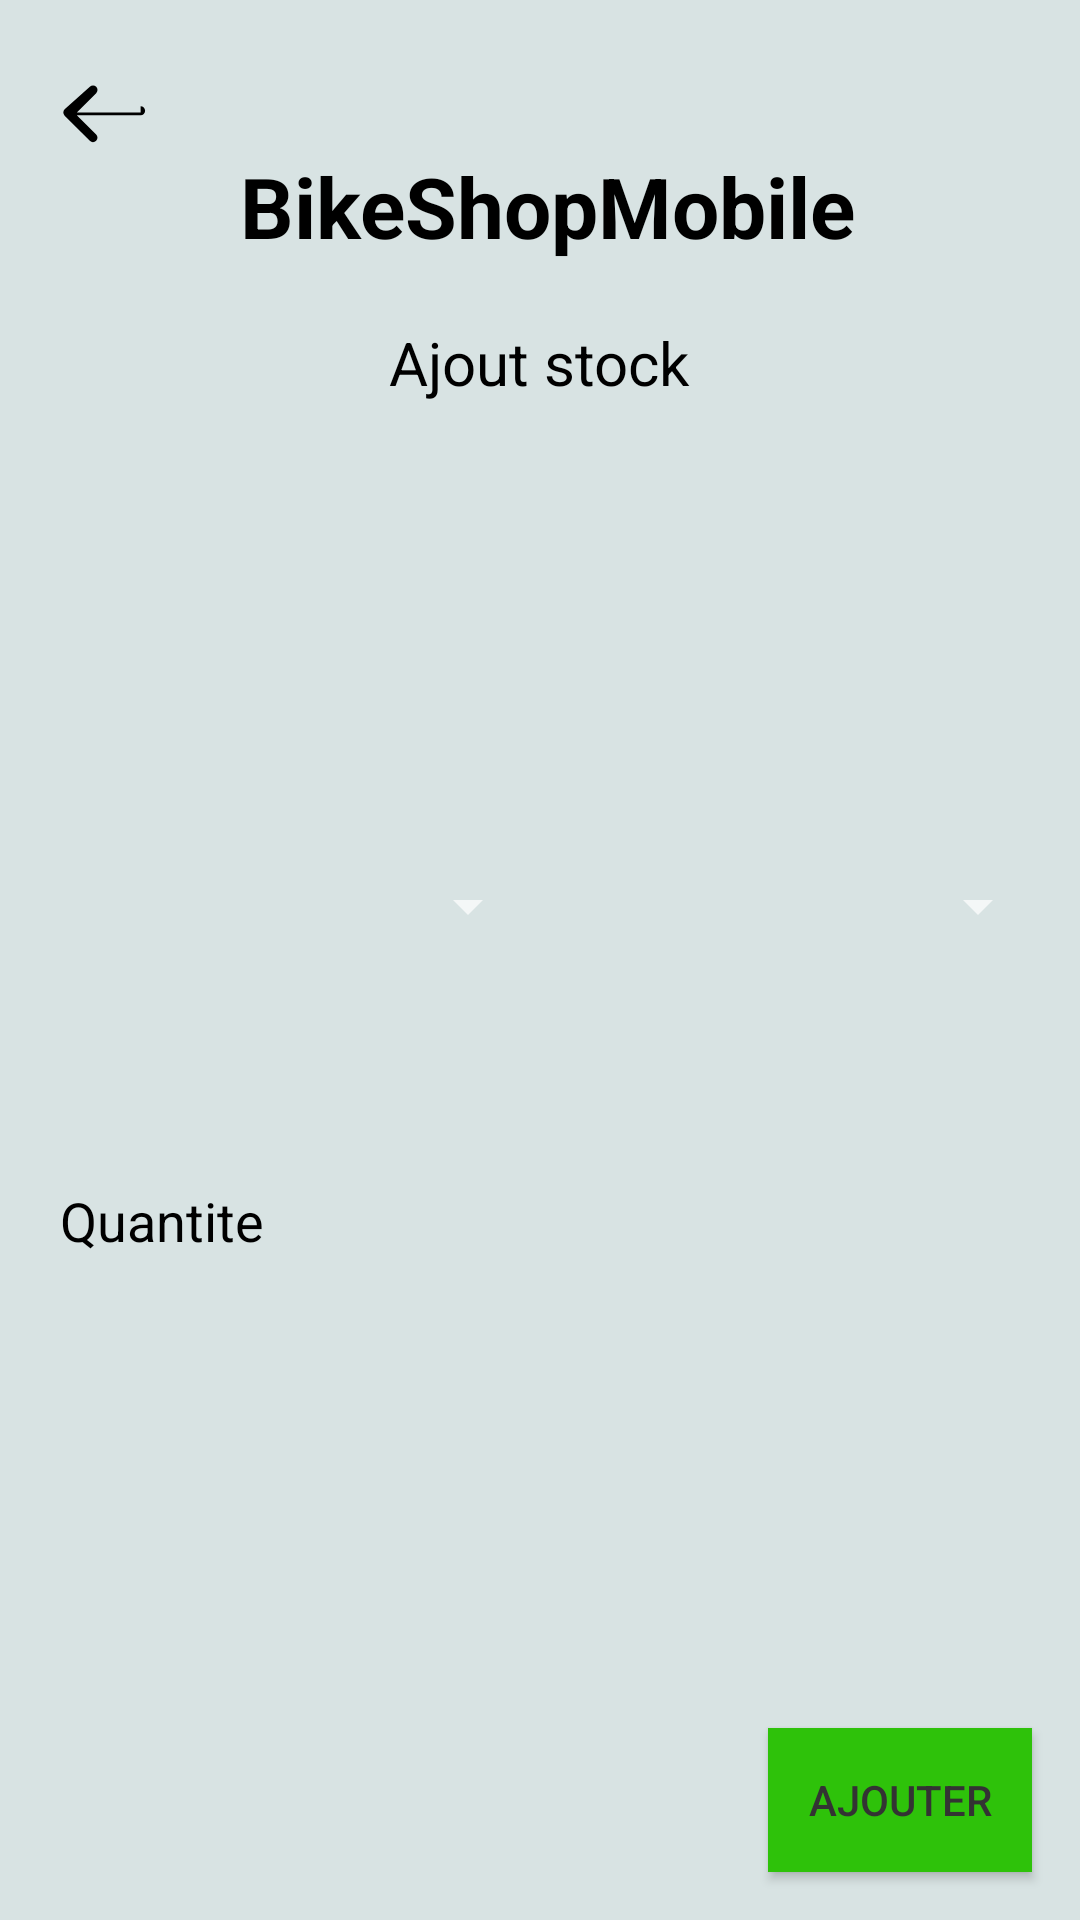

Icon click points for this 1080px x 1920px phone screenshot, format point (x, y):
back: point (104, 114)
